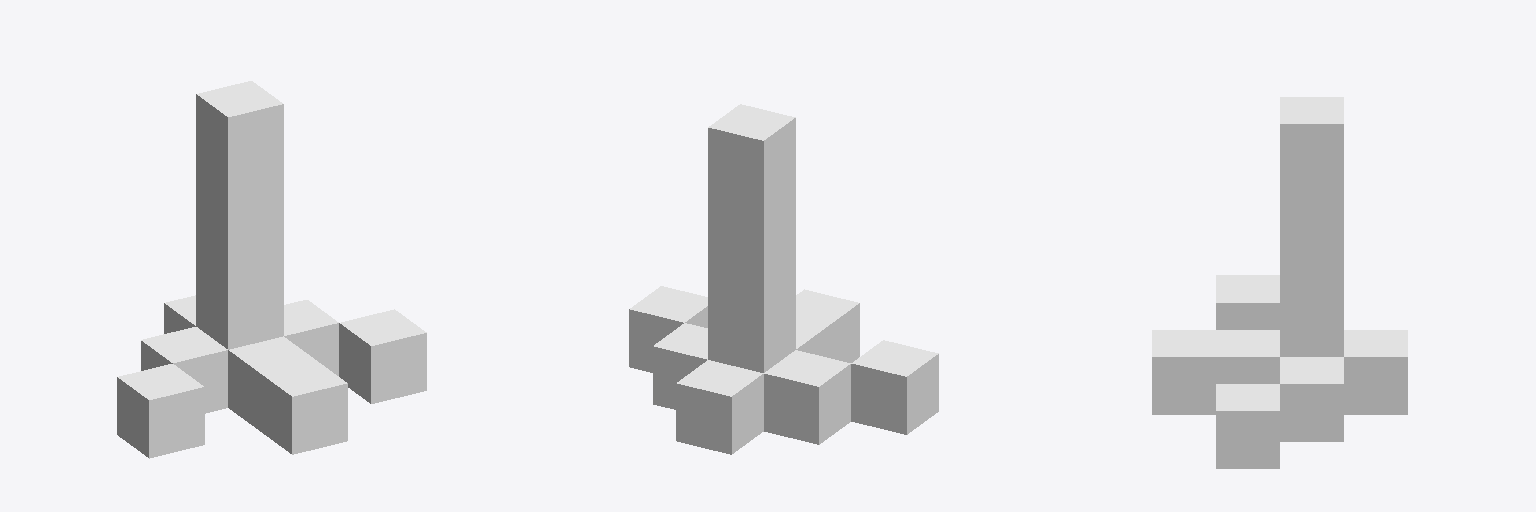
File: Carue_Feet.obj
The picture shows the model from 3 angles: view 1: azimuth 30°, elevation 25°; view 2: azimuth 150°, elevation 25°; view 3: azimuth 270°, elevation 25°; orthographic projection.
Parts seen in each view (by area): view 1: object 1; view 2: object 1; view 3: object 1.
Boxes of the visible parts, box(x1,y1,x2,y2) form: object 1: box(117, 81, 426, 458); object 1: box(629, 104, 938, 454); object 1: box(1152, 97, 1407, 468).
Bounding box in the file's own units: 0.5 × 0.5 × 0.4.